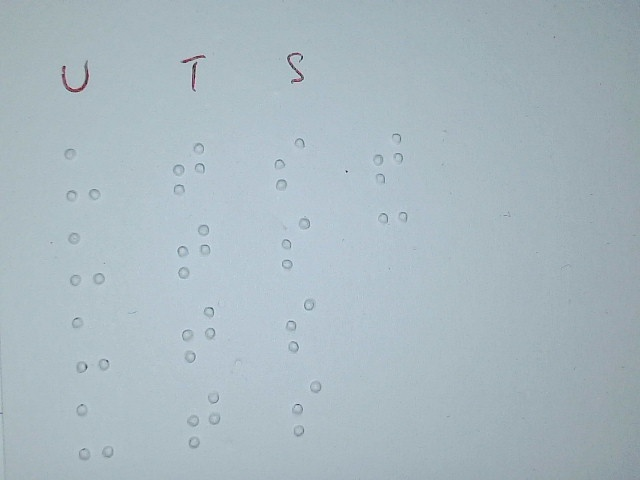S: (272, 134, 308, 191), (291, 378, 323, 437), (279, 214, 312, 271), (284, 296, 317, 353)
T: (180, 304, 216, 363), (185, 389, 221, 448), (171, 140, 207, 197), (176, 222, 212, 279)
U: (70, 315, 111, 373), (74, 402, 115, 460), (63, 146, 103, 202), (66, 230, 106, 286)
